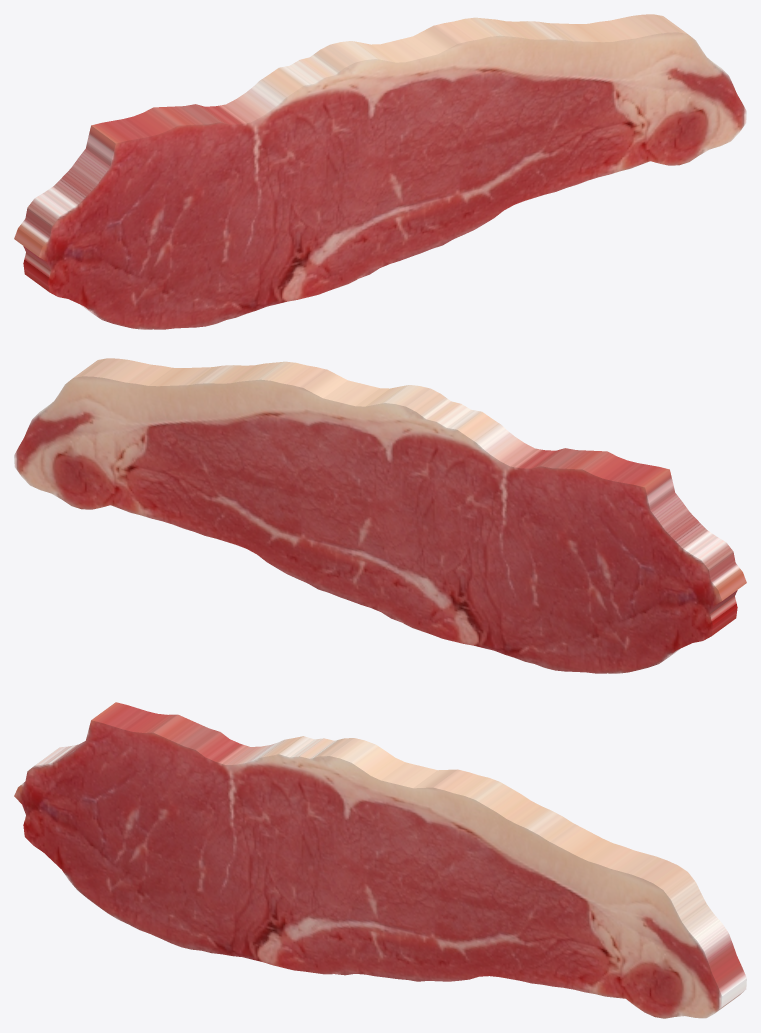
File: carne.glb
The picture shows the model from 3 angles, top to bottom: view 1: azimuth 30°, elevation 25°; view 2: azimuth 150°, elevation 25°; view 3: azimuth 330°, elevation 25°; orthographic projection.
Parts seen in each view (by area): view 1: Object_3; view 2: Object_3; view 3: Object_3.
Boxes of the visible parts, <box> form: Object_3: <box>14,14,746,329</box>; Object_3: <box>14,358,746,673</box>; Object_3: <box>14,702,746,1018</box>.
Bounding box in the file's own units: 1.7 × 0.5219 × 0.1028.
Materials: 1 (1 with a texture image).
